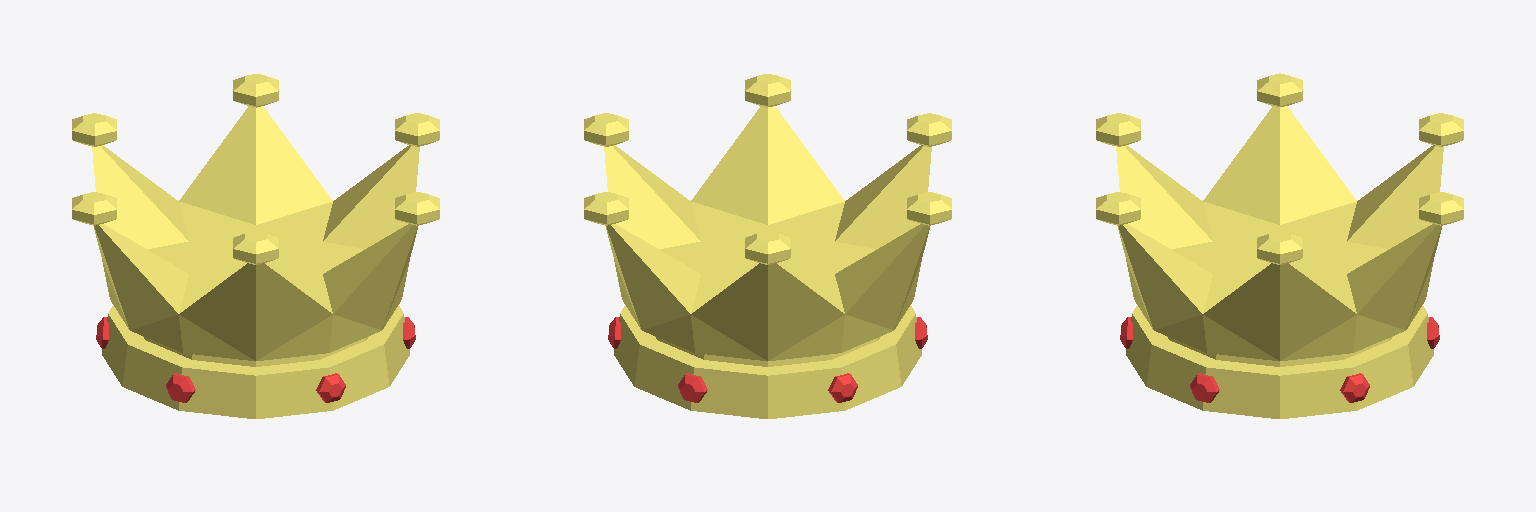
The picture shows the model from 3 angles: view 1: azimuth 30°, elevation 25°; view 2: azimuth 150°, elevation 25°; view 3: azimuth 270°, elevation 25°; orthographic projection.
Visible parts, largest first — view 1: pCylinder14; view 2: pCylinder14; view 3: pCylinder14.
Boxes of the visible parts, box(x1,y1,x2,y2) form: pCylinder14: box(72, 74, 439, 418); pCylinder14: box(584, 74, 951, 418); pCylinder14: box(1096, 73, 1463, 418).
Bounding box in the file's own units: 2.76 × 1.4 × 2.39.
1 materials, 1 textured.